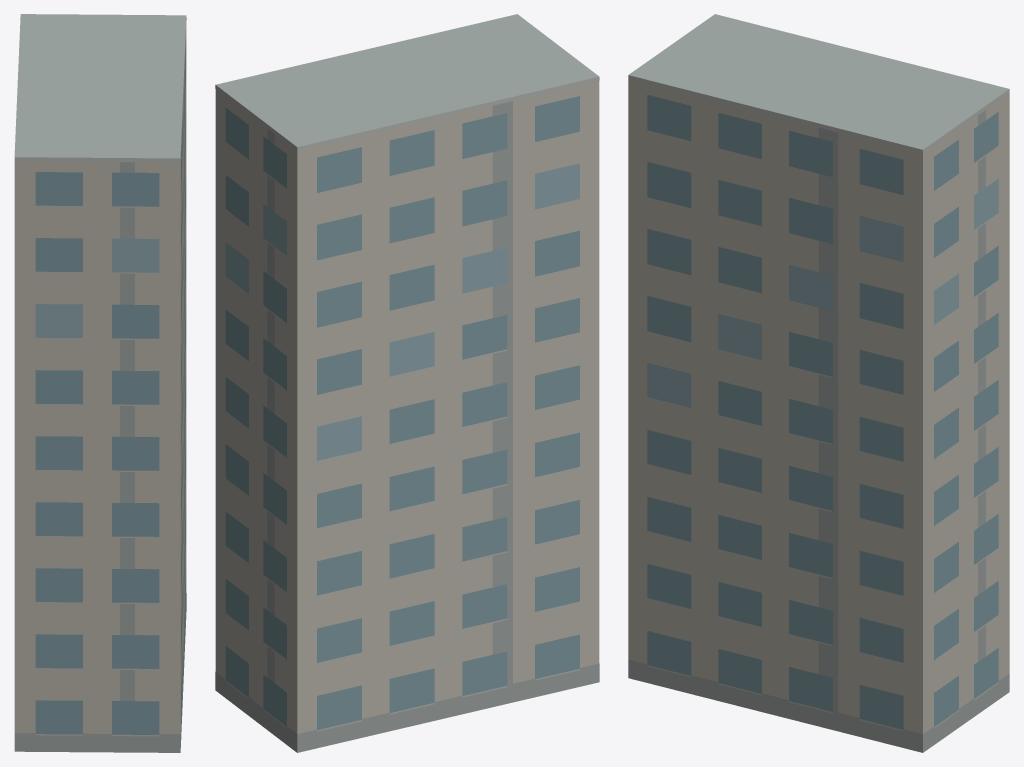
File: residential-543c87b0-1a64-4840-b94e-002f1188194d.glb
3 views of the same model, side by side, from view 1: azimuth 30°, elevation 25°; view 2: azimuth 150°, elevation 25°; view 3: azimuth 270°, elevation 25° (orthographic).
Parts seen in each view (by area): view 1: residential-543c87b0-1a64-4840-b94e-002f1188194d.tmp; view 2: residential-543c87b0-1a64-4840-b94e-002f1188194d.tmp; view 3: residential-543c87b0-1a64-4840-b94e-002f1188194d.tmp.
Boxes of the visible parts, x1,y1,x2,y2 form: residential-543c87b0-1a64-4840-b94e-002f1188194d.tmp: (14,14,186,752); residential-543c87b0-1a64-4840-b94e-002f1188194d.tmp: (215,14,599,752); residential-543c87b0-1a64-4840-b94e-002f1188194d.tmp: (628,14,1009,752).
Bounding box in the file's own units: 16.91 × 35 × 20.07.
